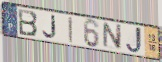6: (83, 18, 101, 49)
B: (17, 8, 39, 37)
I: (68, 16, 74, 44)
J: (125, 26, 143, 54), (42, 14, 57, 40)
N: (102, 22, 123, 52)
